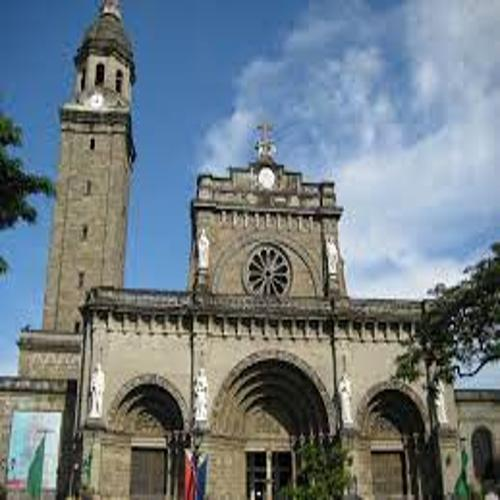Manila Cathedral Church: (13, 6, 492, 500)
